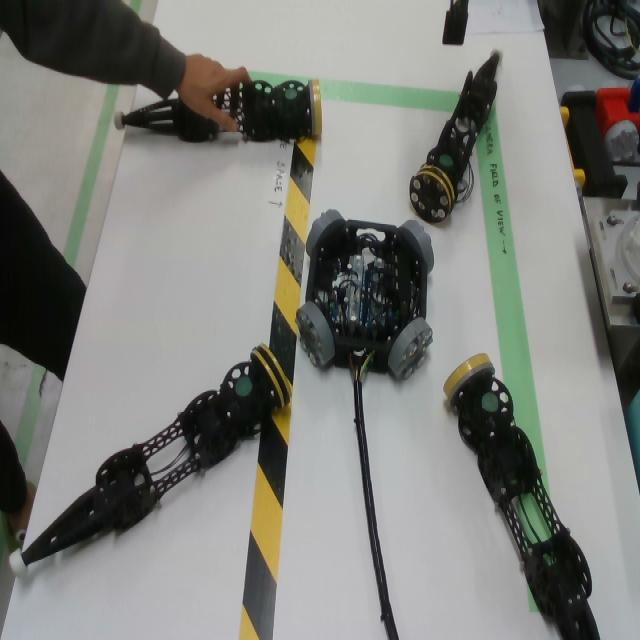body: (306, 220, 428, 373)
body_connector: (387, 317, 433, 381), (296, 301, 335, 368), (400, 220, 434, 275), (306, 209, 345, 256)
leg: (8, 344, 294, 577), (443, 353, 602, 640), (410, 45, 504, 224), (212, 79, 323, 143), (114, 99, 227, 144)
leg_connector: (443, 353, 496, 408), (249, 343, 292, 409), (409, 164, 456, 224), (309, 80, 322, 141)
leg_marker: (234, 375, 252, 397), (481, 392, 499, 413), (284, 88, 298, 101), (439, 155, 454, 167)
